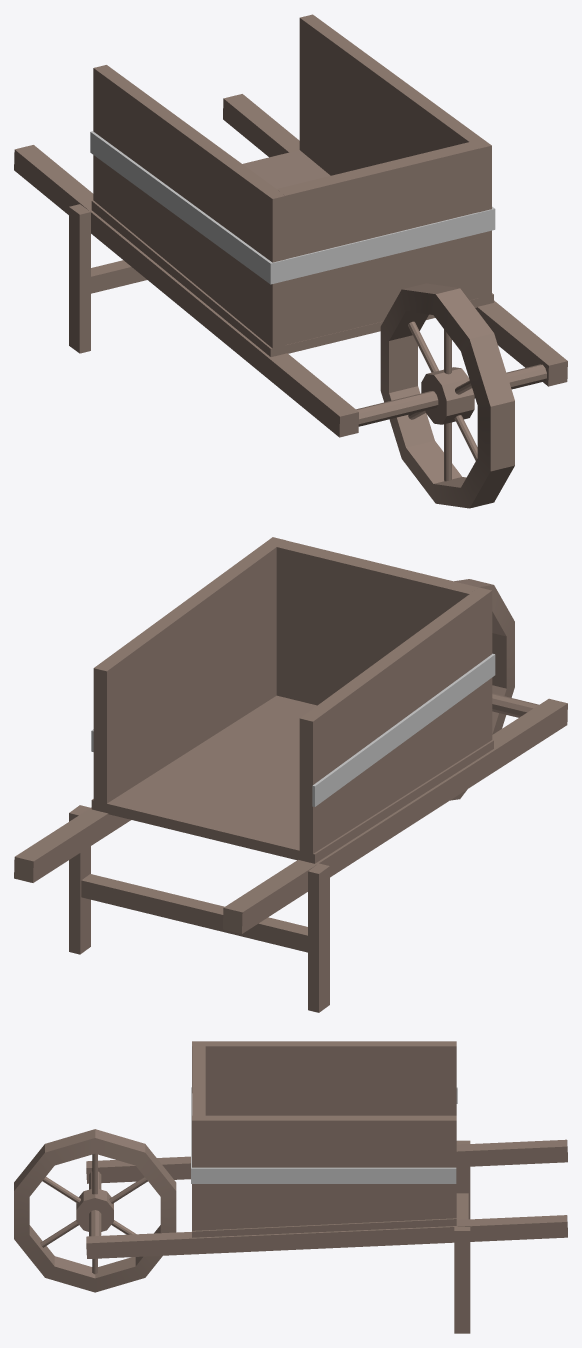
The model's file is Carroca.fbx.
The picture shows the model from 3 angles, top to bottom: view 1: azimuth 30°, elevation 25°; view 2: azimuth 150°, elevation 25°; view 3: azimuth 270°, elevation 25°; orthographic projection. The views are drawn at different scales.
Visible parts, largest first — view 1: pCube48, pCube49, pCube47, pCylinder28, pCube44, pCube51, pCube42, pCube41, pCube46, pCylinder29, pCylinder30, pCube50 (+2 smaller); view 2: pCube47, pCube48, pCube41, pCube49, pCube44, pCube50, pCube51, pCube42, pCube46, pCylinder28, pCube45, pCylinder29; view 3: pCube47, pCube48, pCube42, pCylinder28, pCube51, pCube44, pCube41, pCube45, pCylinder30, pCube49, pCylinder33, pCube46 (+2 smaller).
Part boxes in pixels (bbox=[...]): pCube48: bbox=[93, 65, 285, 356]; pCube49: bbox=[277, 142, 478, 344]; pCube47: bbox=[299, 14, 491, 304]; pCylinder28: bbox=[380, 283, 514, 508]; pCube44: bbox=[14, 145, 358, 437]; pCube51: bbox=[90, 131, 495, 284]; pCube42: bbox=[223, 94, 567, 386]; pCube41: bbox=[91, 150, 493, 356]; pCube46: bbox=[69, 204, 90, 353]; pCylinder29: bbox=[356, 364, 546, 426]; pCylinder30: bbox=[421, 367, 474, 424]; pCube50: bbox=[91, 260, 146, 293]; pCube47: bbox=[93, 537, 285, 807]; pCube48: bbox=[299, 587, 492, 860]; pCube41: bbox=[91, 695, 493, 863]; pCube49: bbox=[276, 540, 478, 705]; pCube44: bbox=[223, 698, 567, 933]; pCube50: bbox=[81, 874, 307, 952]; pCube51: bbox=[91, 653, 495, 806]; pCube42: bbox=[14, 807, 130, 882]; pCube46: bbox=[308, 863, 329, 1012]; pCylinder28: bbox=[450, 579, 514, 800]; pCube45: bbox=[69, 805, 90, 954]; pCylinder29: bbox=[492, 693, 538, 717]; pCube47: bbox=[192, 1115, 456, 1230]; pCube48: bbox=[192, 1041, 456, 1115]; pCube42: bbox=[86, 1215, 567, 1258]; pCylinder28: bbox=[14, 1129, 176, 1292]; pCube51: bbox=[191, 1087, 457, 1183]; pCube44: bbox=[86, 1139, 567, 1183]; pCube41: bbox=[192, 1218, 456, 1237]; pCube45: bbox=[454, 1227, 470, 1333]; pCylinder30: bbox=[76, 1189, 113, 1231]; pCube49: bbox=[192, 1046, 205, 1115]; pCylinder33: bbox=[40, 1177, 147, 1247]; pCube46: bbox=[456, 1140, 470, 1219].
Bounding box in the file's own units: 0.5985 × 0.6422 × 1.55.
